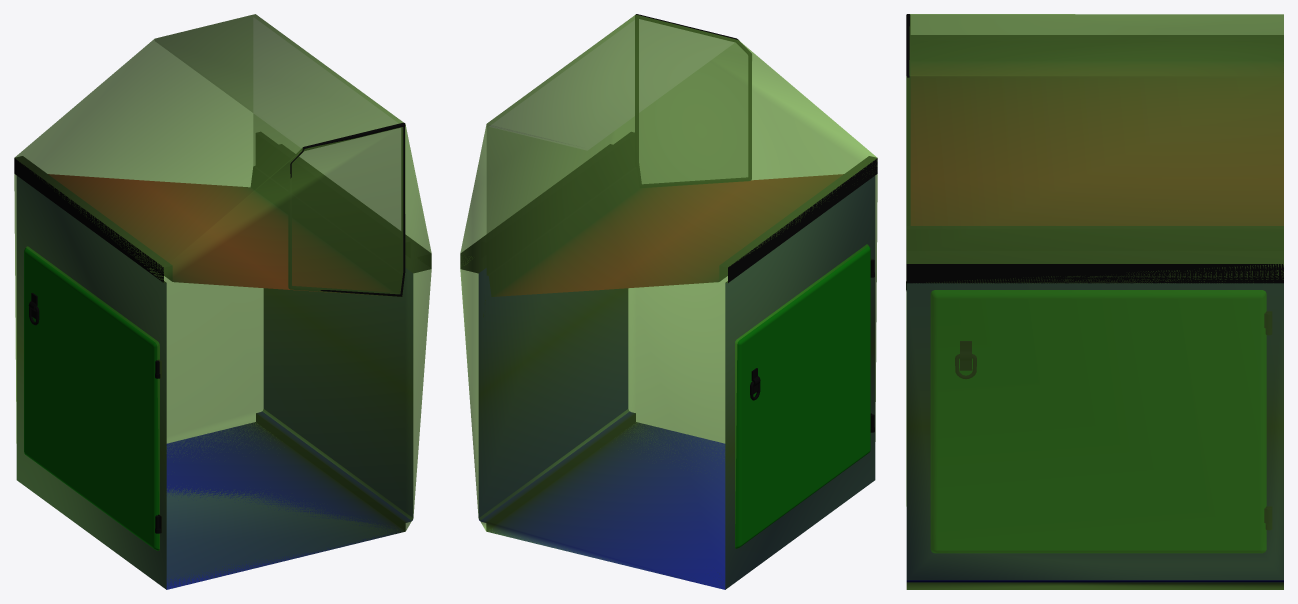
Rendered from M_md_Stall5_1m_03.fbx.
The picture shows the model from 3 angles, left to right: view 1: azimuth 30°, elevation 25°; view 2: azimuth 150°, elevation 25°; view 3: azimuth 270°, elevation 25°; orthographic projection. The views are drawn at different scales.
Visible parts, largest first — view 1: M_md_Stall5_1m_03_col_01, M_md_Stall5_1m_03_LOD0; view 2: M_md_Stall5_1m_03_LOD0, M_md_Stall5_1m_03_col_01; view 3: M_md_Stall5_1m_03_LOD0, M_md_Stall5_1m_03_col_01.
Part boxes in pixels (box(x1,y1,x2,y2)): M_md_Stall5_1m_03_col_01: box(14, 14, 431, 589); M_md_Stall5_1m_03_LOD0: box(14, 14, 431, 589); M_md_Stall5_1m_03_LOD0: box(460, 14, 877, 589); M_md_Stall5_1m_03_col_01: box(460, 14, 877, 589); M_md_Stall5_1m_03_LOD0: box(906, 14, 1283, 589); M_md_Stall5_1m_03_col_01: box(906, 14, 1283, 589).
Size of what is drawn, in the model's own units: 106 by 150 by 100.
